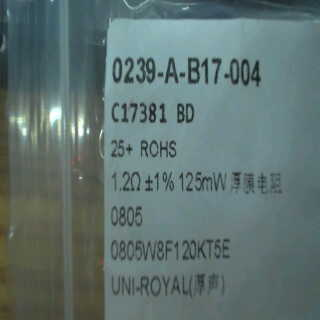1.2R: (109, 166, 144, 233)
